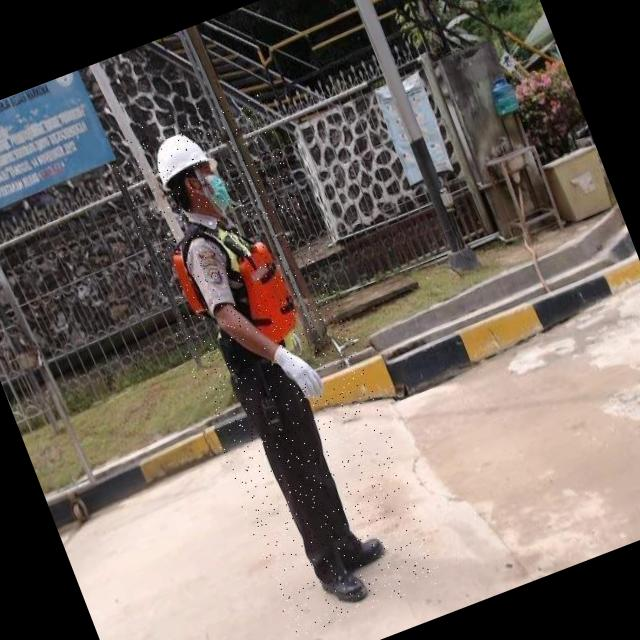hard_hat: (146, 120, 224, 192)
safety_vest: (168, 202, 314, 378)
vehicle: (101, 81, 446, 640)
work_boots: (314, 552, 373, 614), (332, 528, 392, 578)
